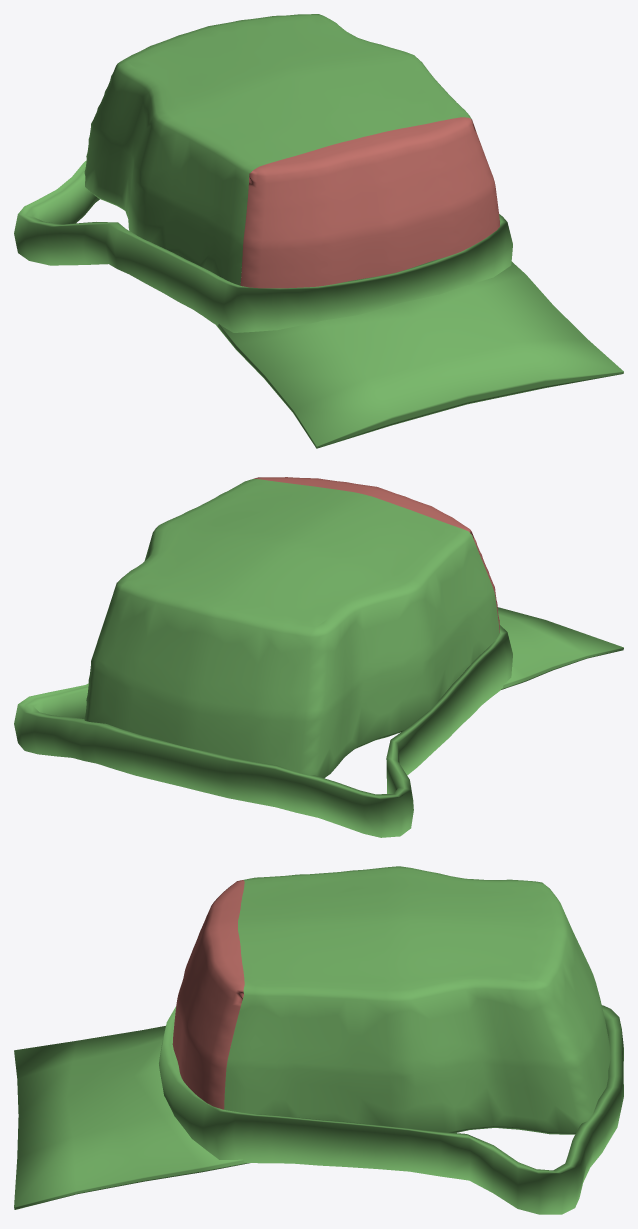
Rendered from cap.obj.
3 renders of one model, top to bottom at view 1: azimuth 30°, elevation 25°; view 2: azimuth 150°, elevation 25°; view 3: azimuth 270°, elevation 25°, orthographic. The views are drawn at different scales.
Parts seen in each view (by area): view 1: vn_commander_uniform_cap; view 2: vn_commander_uniform_cap; view 3: vn_commander_uniform_cap.
Part boxes in pixels (x1,y1,x2,y2): vn_commander_uniform_cap: (14,14,623,448); vn_commander_uniform_cap: (14,477,623,837); vn_commander_uniform_cap: (14,866,623,1214).
Bounding box in the file's own units: 21.91 × 11.02 × 28.42.
